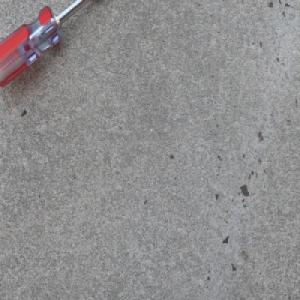Screwdriver: (0, 0, 93, 92)
